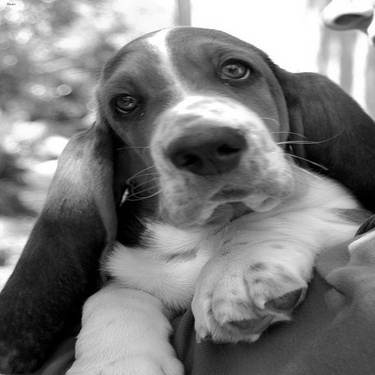dog: (2, 27, 370, 369)
